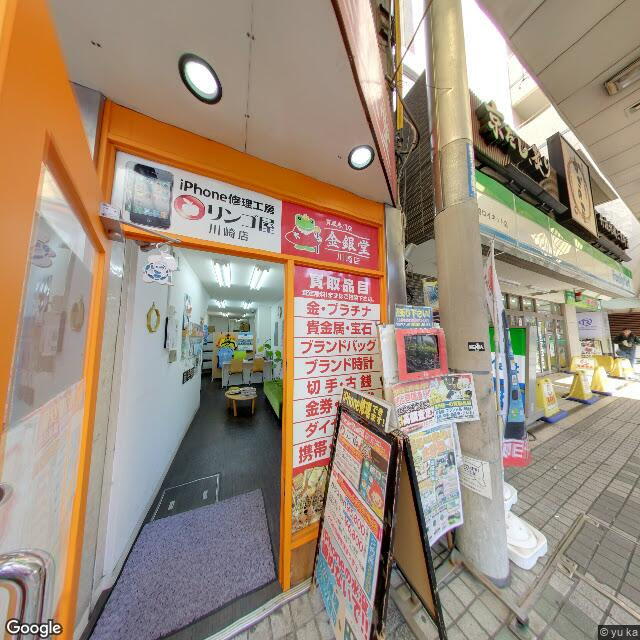family_mart: (476, 172, 635, 299)
